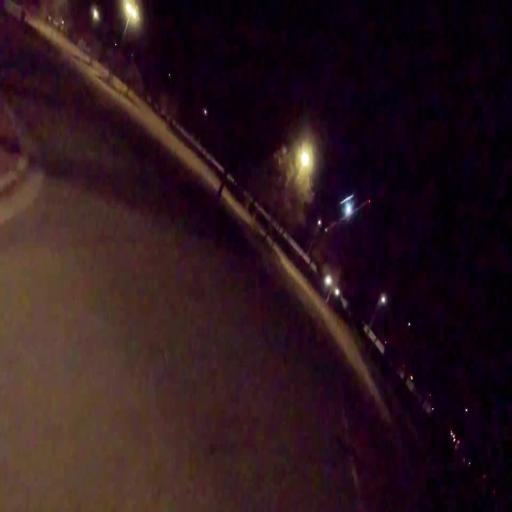uav: (322, 187, 374, 239)
